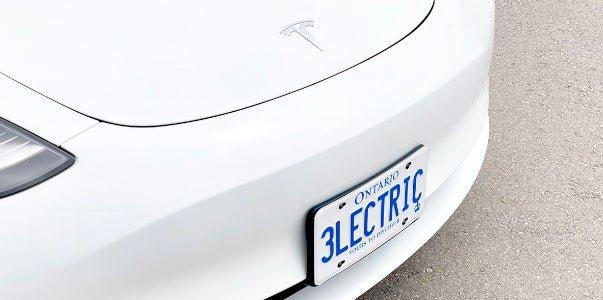Liscence Plate: (303, 174, 439, 258)
